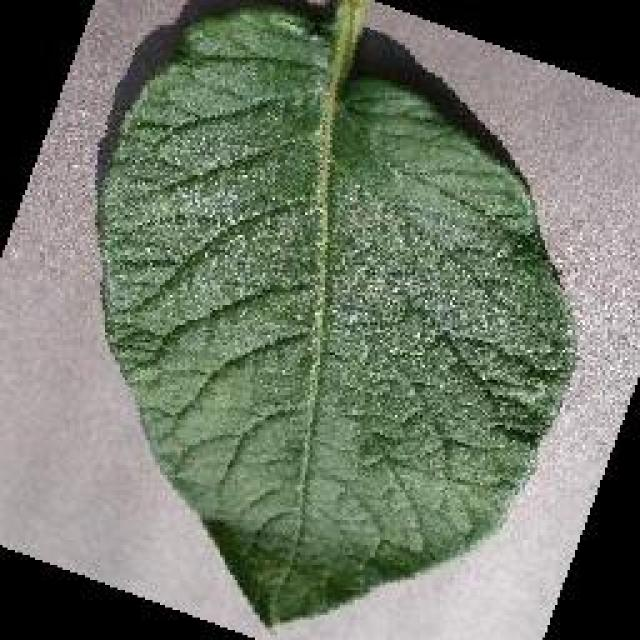Potato___healthy: (96, 0, 579, 632)
